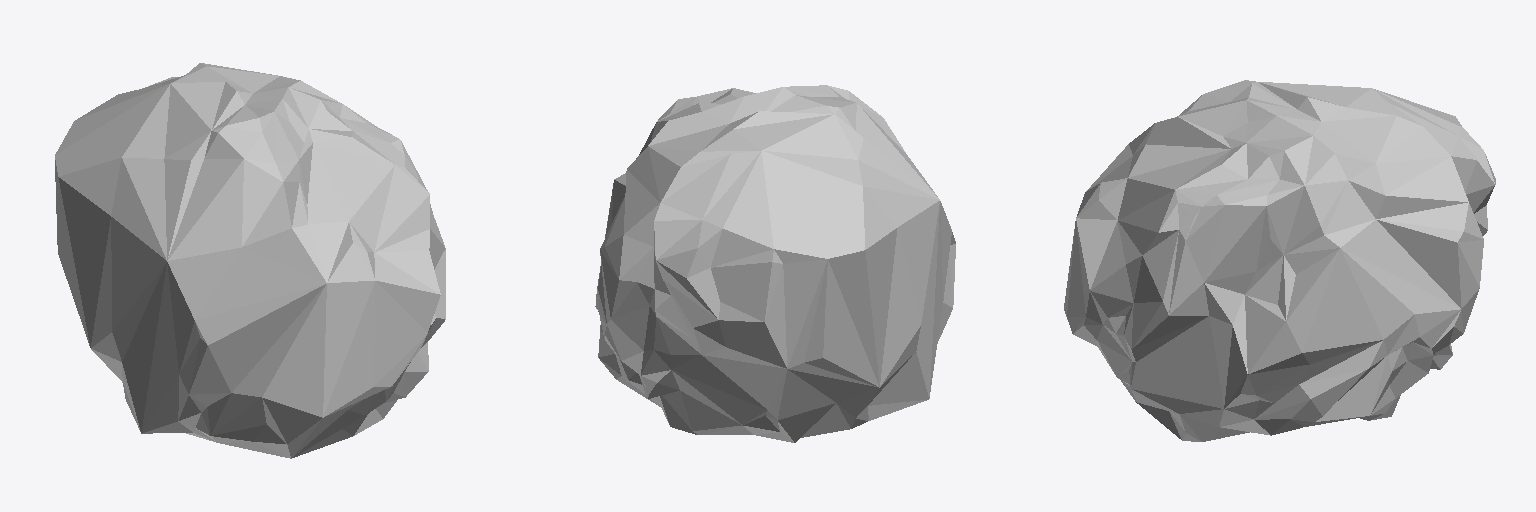
File: indianajonesrockHULL.obj
3 renders of one model, left to right at view 1: azimuth 30°, elevation 25°; view 2: azimuth 150°, elevation 25°; view 3: azimuth 270°, elevation 25°, orthographic.
Parts seen in each view (by area): view 1: (null); view 2: (null); view 3: (null).
Boxes of the visible parts, <box> form: (null): <box>55,63,445,458</box>; (null): <box>595,85,955,442</box>; (null): <box>1064,80,1495,441</box>.
Bounding box in the file's own units: 4.79 × 4.83 × 6.04.